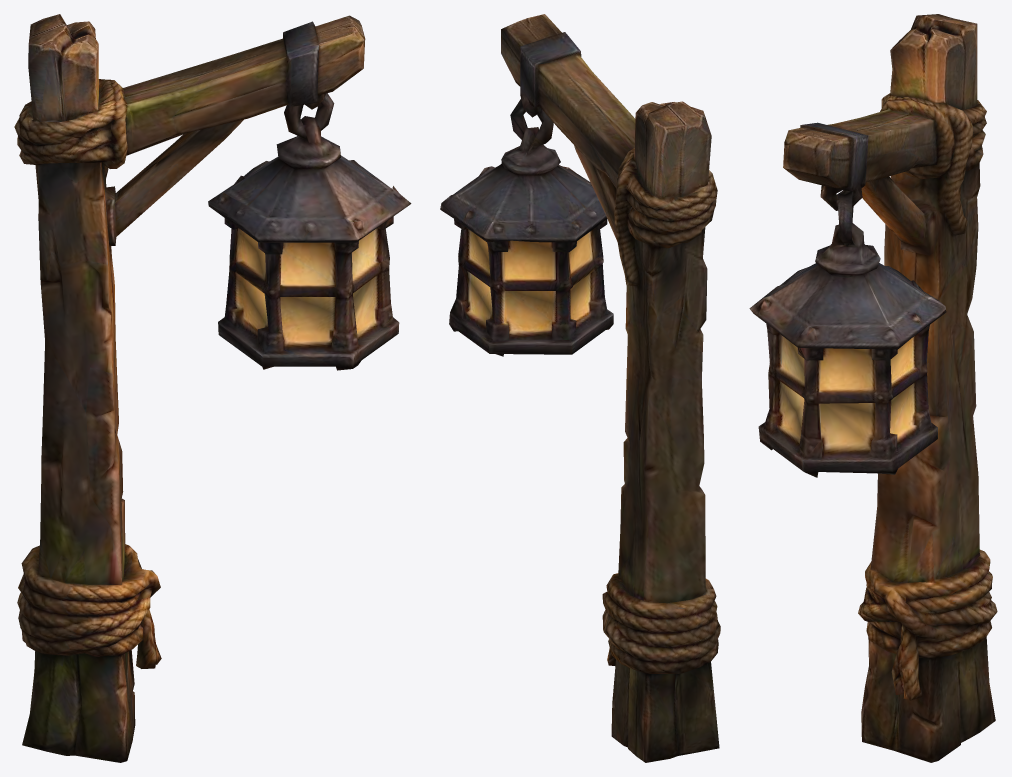
File: prop-lantern-post-v2-desktop.glb
3 views of the same model, side by side, from view 1: azimuth 30°, elevation 25°; view 2: azimuth 150°, elevation 25°; view 3: azimuth 270°, elevation 25° (orthographic). The views are drawn at different scales.
Parts seen in each view (by area): view 1: tripo_node_ab763b4f-d258-47ee-bccc-f83e04b6fea0; view 2: tripo_node_ab763b4f-d258-47ee-bccc-f83e04b6fea0; view 3: tripo_node_ab763b4f-d258-47ee-bccc-f83e04b6fea0.
Part boxes in pixels (x1,y1,x2,y2): tripo_node_ab763b4f-d258-47ee-bccc-f83e04b6fea0: [14, 14, 411, 762]; tripo_node_ab763b4f-d258-47ee-bccc-f83e04b6fea0: [440, 14, 720, 762]; tripo_node_ab763b4f-d258-47ee-bccc-f83e04b6fea0: [749, 14, 997, 762].
Size of the model in its own units: 0.4655 by 0.9775 by 0.3092.
Materials: 1 (1 with a texture image).
